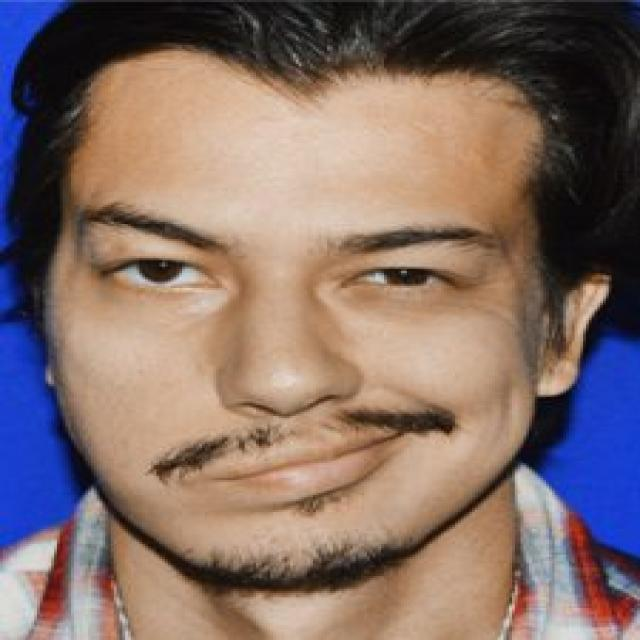stroke_face: (31, 10, 603, 592)
